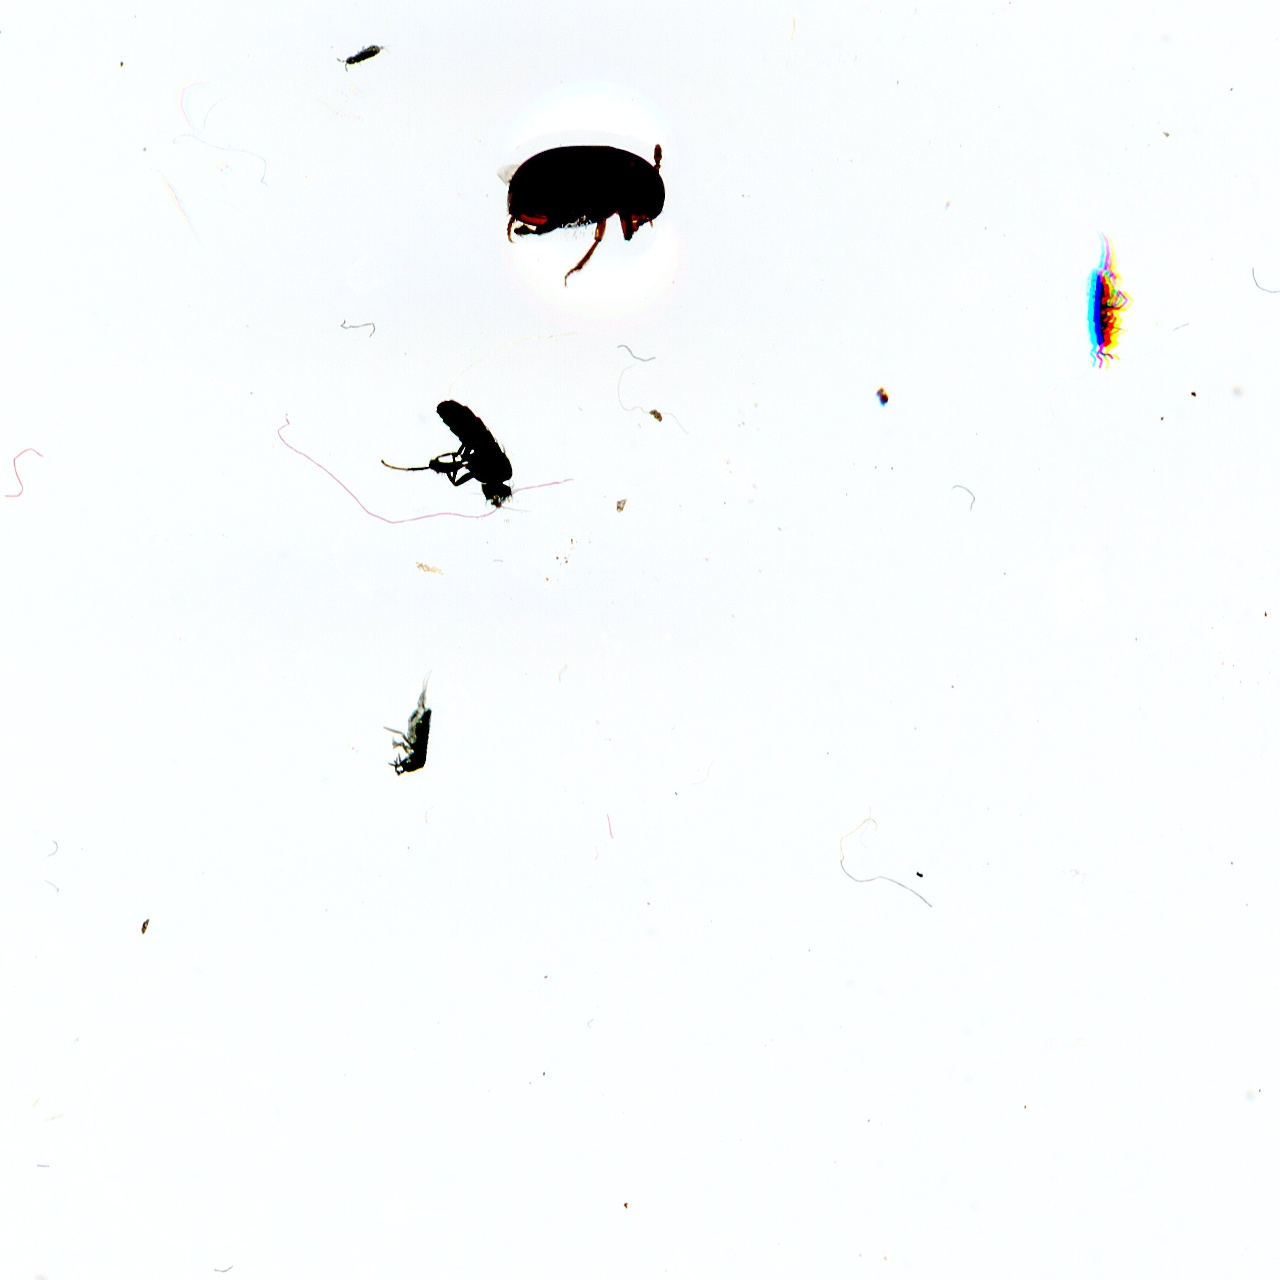arthropod: (491, 140, 670, 292), (368, 391, 538, 523), (378, 654, 443, 789), (1080, 216, 1134, 378), (331, 38, 402, 77)
